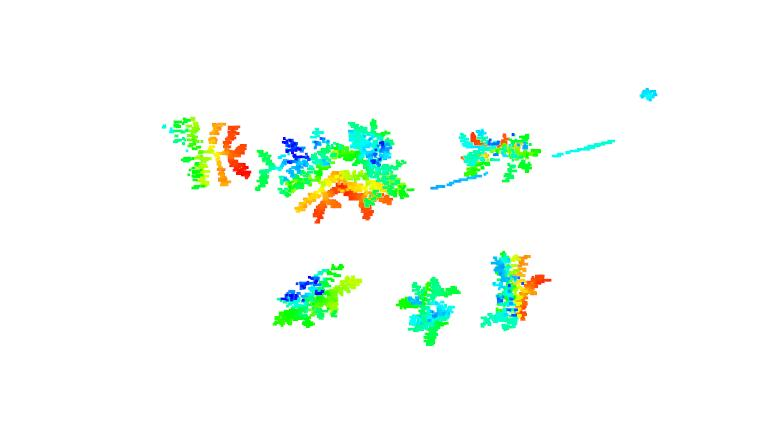chickpea: (250, 126, 350, 223), (329, 118, 416, 222), (160, 116, 253, 190), (270, 262, 363, 332), (480, 251, 556, 332), (457, 127, 543, 184), (395, 275, 460, 347)
